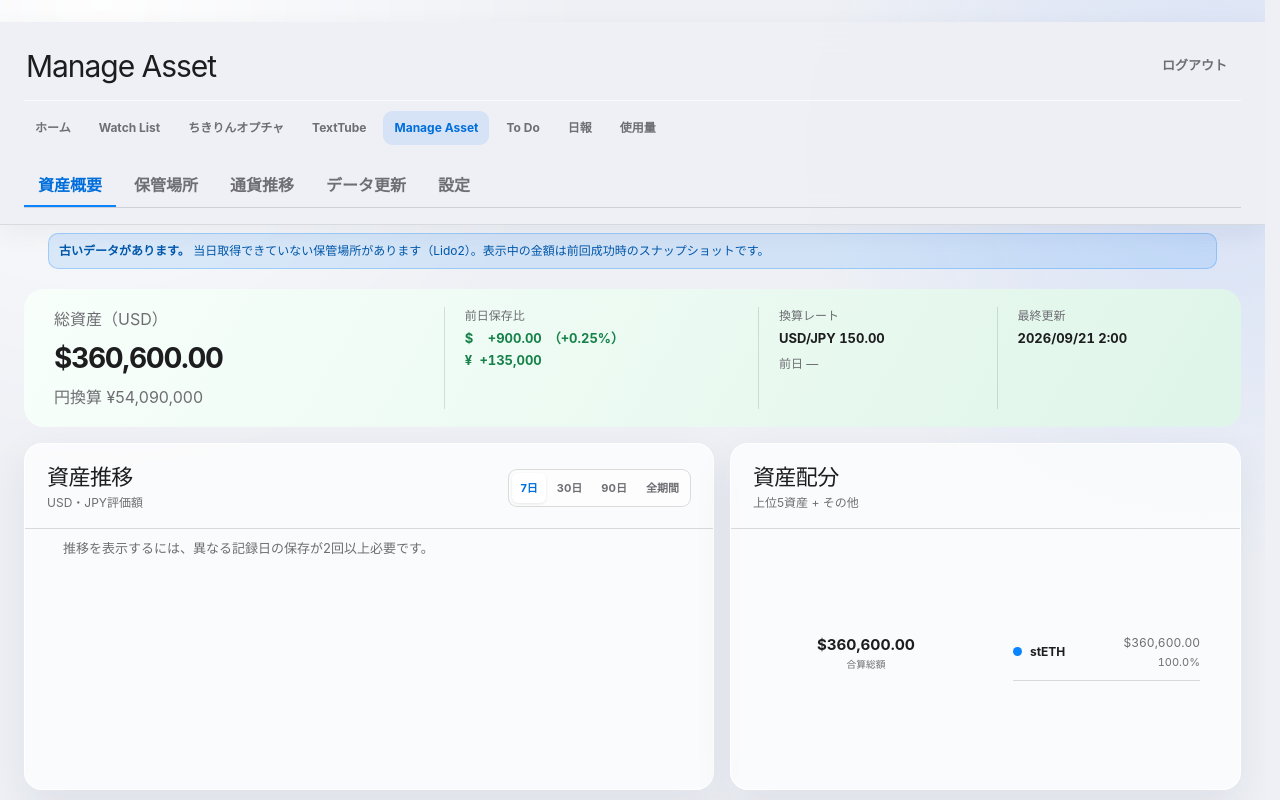
Test: a slow summary answer cannot overwrite the full rows that arrived first
Click the button "全期間": (662,488) [638,473,687,503]
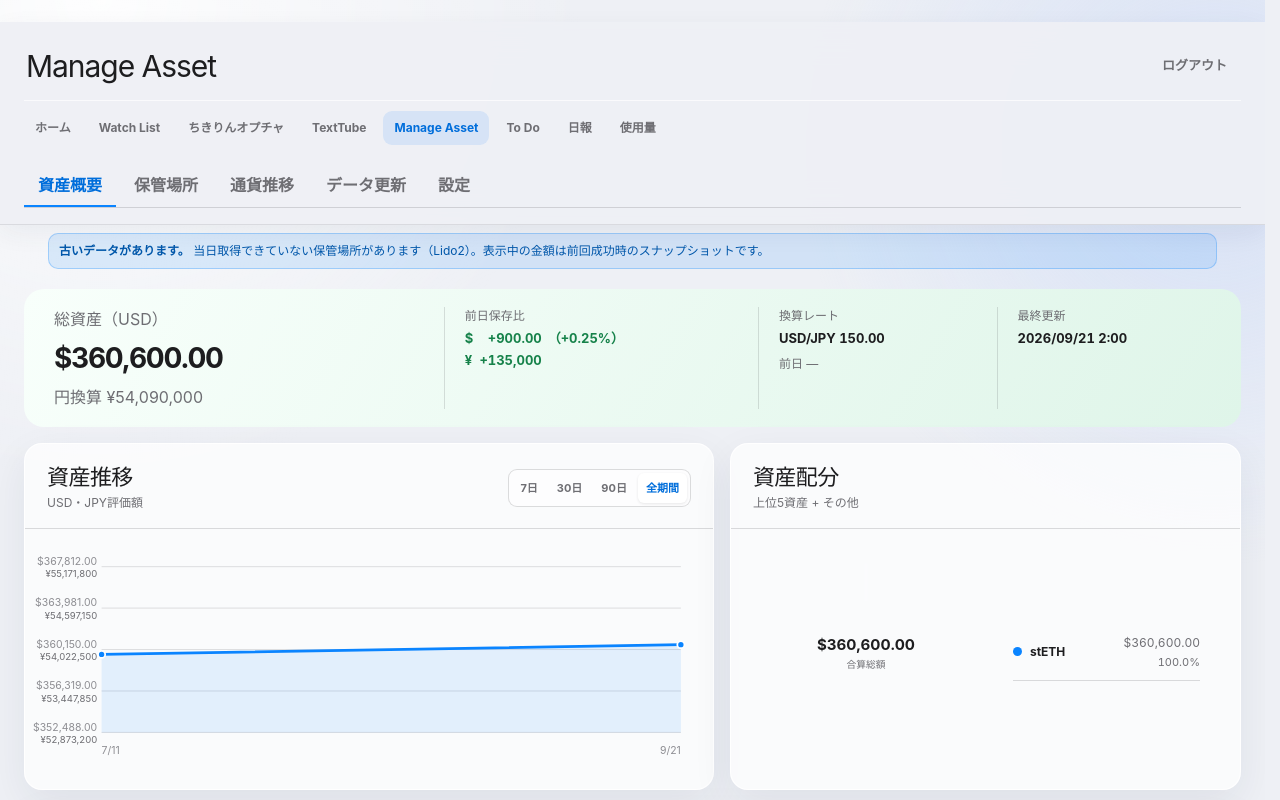
meanwhile the currency tab loads the full rows and draws
Click the button "通貨推移": (262,186) [216,165,308,207]
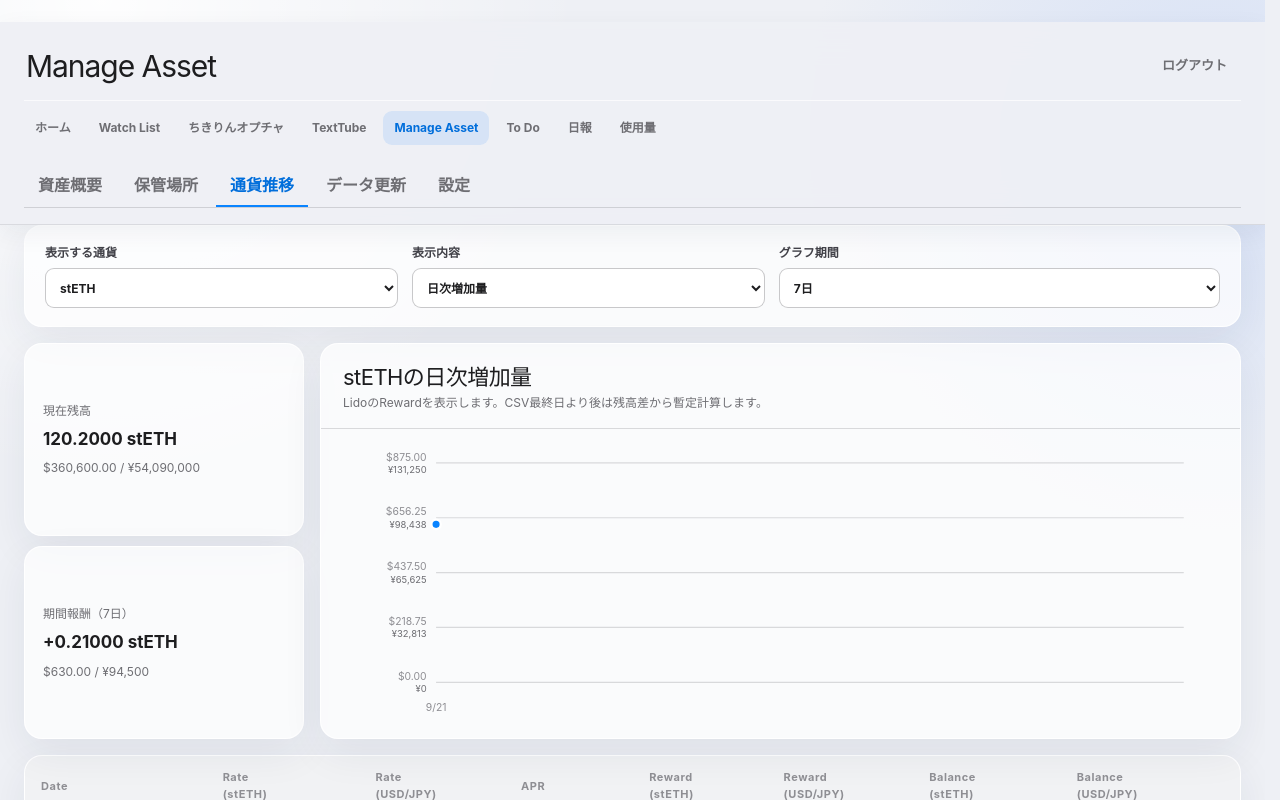
Result: the text "現在残高" is shown at [43,403,91,418]
